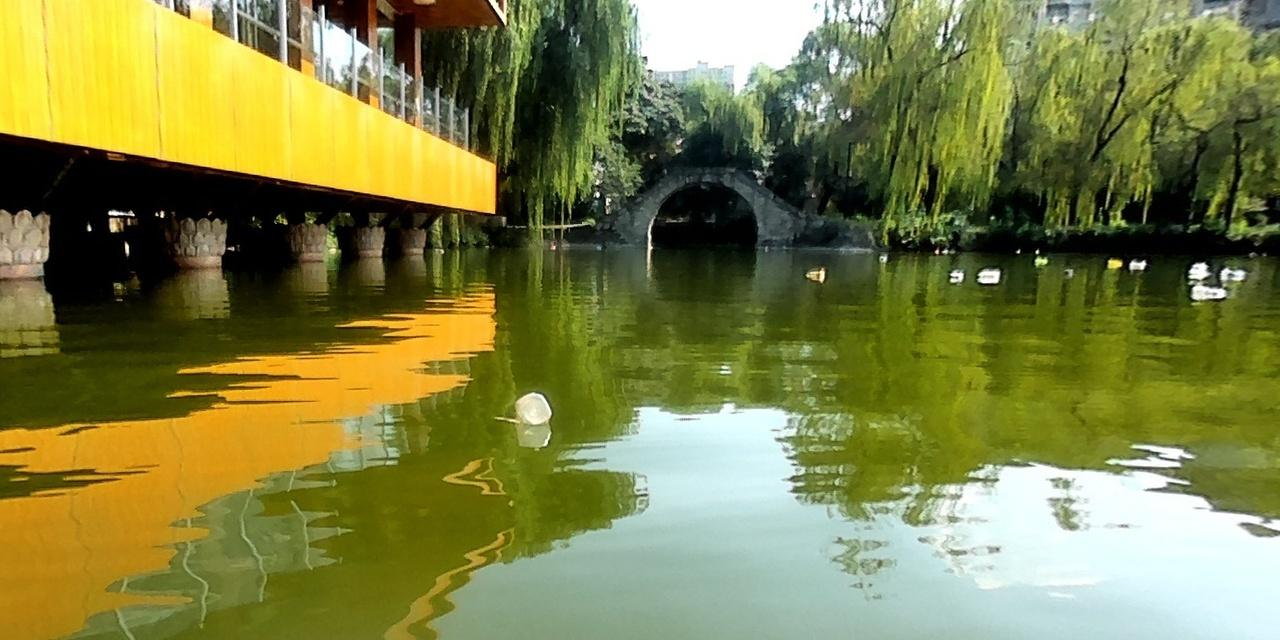bottle: (507, 390, 554, 424), (1189, 284, 1225, 301), (802, 267, 827, 283), (1220, 267, 1247, 281), (974, 267, 1002, 279), (1187, 262, 1208, 277), (1127, 259, 1149, 270), (1104, 256, 1120, 267), (1031, 256, 1049, 265), (948, 271, 961, 280)
